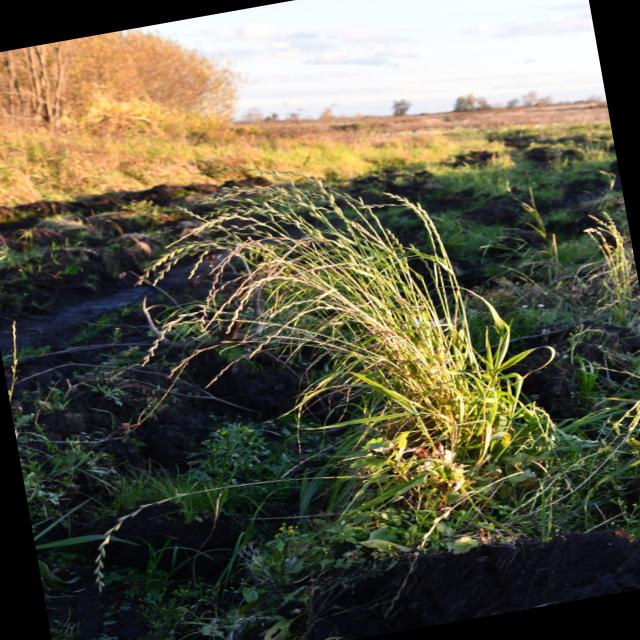Lolium: (90, 111, 586, 568), (201, 150, 320, 204), (125, 234, 247, 286), (134, 310, 207, 368), (164, 209, 256, 246), (310, 181, 376, 222), (383, 185, 427, 218)
